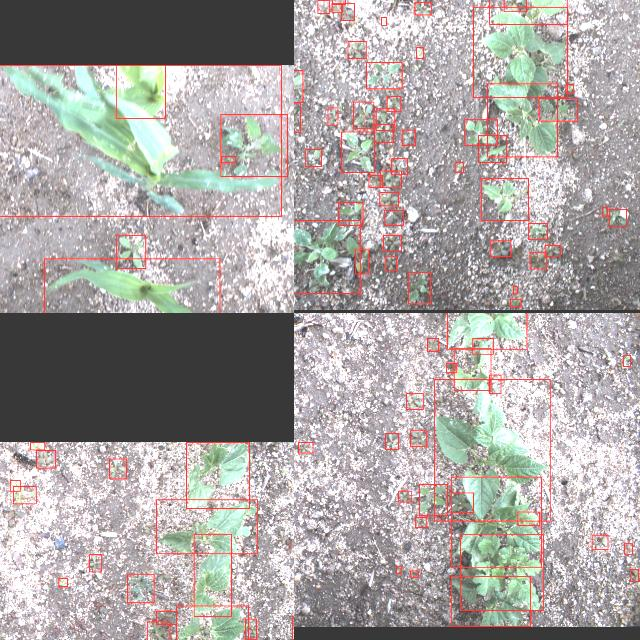crop: (0, 64, 281, 215), (434, 379, 550, 521), (44, 258, 220, 313), (473, 5, 567, 96), (451, 477, 541, 568), (156, 499, 258, 553), (487, 84, 557, 156), (187, 441, 250, 507), (451, 576, 531, 626), (194, 533, 232, 615), (447, 313, 527, 348), (116, 64, 166, 118), (176, 605, 248, 640), (482, 178, 528, 220), (490, 0, 568, 24), (454, 348, 491, 390)
weed: (461, 534, 544, 610), (294, 220, 360, 293), (220, 114, 288, 176), (342, 132, 374, 172), (116, 234, 146, 268), (366, 62, 402, 88), (419, 484, 447, 516), (464, 119, 498, 145), (538, 98, 578, 120), (478, 134, 506, 162), (128, 574, 154, 602), (408, 272, 430, 304), (338, 202, 362, 224), (354, 101, 374, 127), (451, 492, 473, 512), (146, 621, 169, 640), (376, 108, 394, 130), (14, 485, 36, 503), (381, 170, 402, 188), (374, 124, 394, 142), (36, 449, 56, 467), (355, 250, 369, 274), (528, 223, 548, 239), (491, 240, 511, 256), (110, 458, 126, 478), (473, 337, 493, 353), (348, 41, 366, 58), (610, 208, 626, 226), (306, 148, 322, 166), (294, 70, 303, 102), (383, 235, 401, 251), (406, 393, 424, 409), (384, 210, 404, 224), (156, 610, 176, 624), (518, 511, 538, 525), (409, 430, 426, 446), (379, 192, 398, 206), (530, 252, 546, 268), (391, 158, 407, 174), (592, 534, 608, 550), (503, 0, 526, 11), (88, 554, 102, 572), (489, 373, 501, 392), (402, 129, 416, 145), (342, 3, 354, 20), (246, 619, 256, 639), (387, 96, 401, 110), (415, 2, 431, 14), (386, 433, 398, 449), (294, 102, 300, 132), (546, 244, 560, 256), (369, 175, 383, 187), (328, 108, 338, 124), (298, 442, 314, 452), (398, 491, 412, 502), (318, 0, 330, 12), (386, 256, 396, 270), (30, 441, 46, 449), (428, 338, 438, 350), (332, 2, 342, 12), (10, 480, 20, 490), (416, 517, 426, 527), (446, 362, 456, 372), (416, 46, 424, 58), (630, 569, 638, 581), (222, 156, 236, 162), (511, 299, 521, 307), (456, 162, 464, 172), (58, 578, 68, 586), (624, 543, 632, 553), (624, 354, 630, 366), (566, 84, 574, 92), (602, 207, 608, 216), (332, 0, 345, 4), (396, 566, 402, 574), (410, 571, 418, 577), (513, 286, 517, 294), (382, 16, 386, 24)
